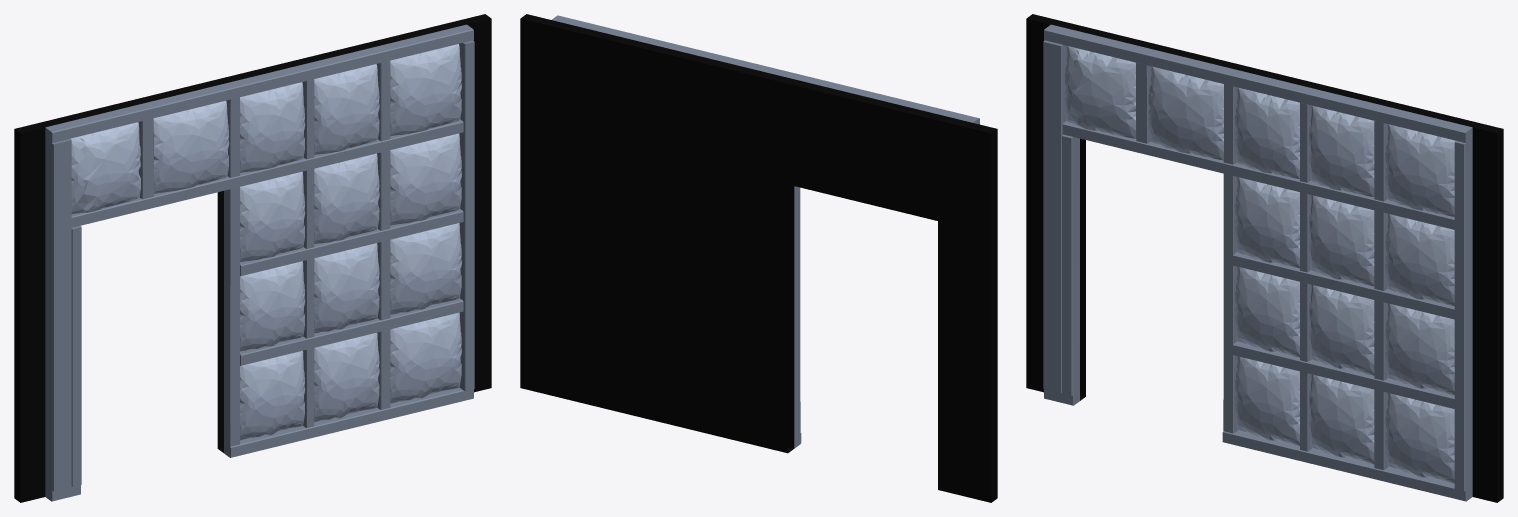
File: pulllow-door-wall.fbx
3 renders of one model, left to right at view 1: azimuth 30°, elevation 25°; view 2: azimuth 150°, elevation 25°; view 3: azimuth 330°, elevation 25°, orthographic.
Parts seen in each view (by area): view 1: pillow-wall-door-frame, pillow-wall-door-insd; view 2: pillow-wall-door-insd, pillow-wall-door-frame; view 3: pillow-wall-door-frame, pillow-wall-door-insd.
Boxes of the visible parts, x1=… form: pillow-wall-door-frame: x1=45, y1=24, x2=474, y2=501; pillow-wall-door-insd: x1=14, y1=14, x2=491, y2=502; pillow-wall-door-insd: x1=520, y1=14, x2=997, y2=502; pillow-wall-door-frame: x1=552, y1=15, x2=979, y2=448; pillow-wall-door-frame: x1=1043, y1=24, x2=1472, y2=501; pillow-wall-door-insd: x1=1026, y1=14, x2=1503, y2=502.
Bounding box in the file's own units: 4.4 × 0.2654 × 3.3.
Materials: 1 (1 with a texture image).
